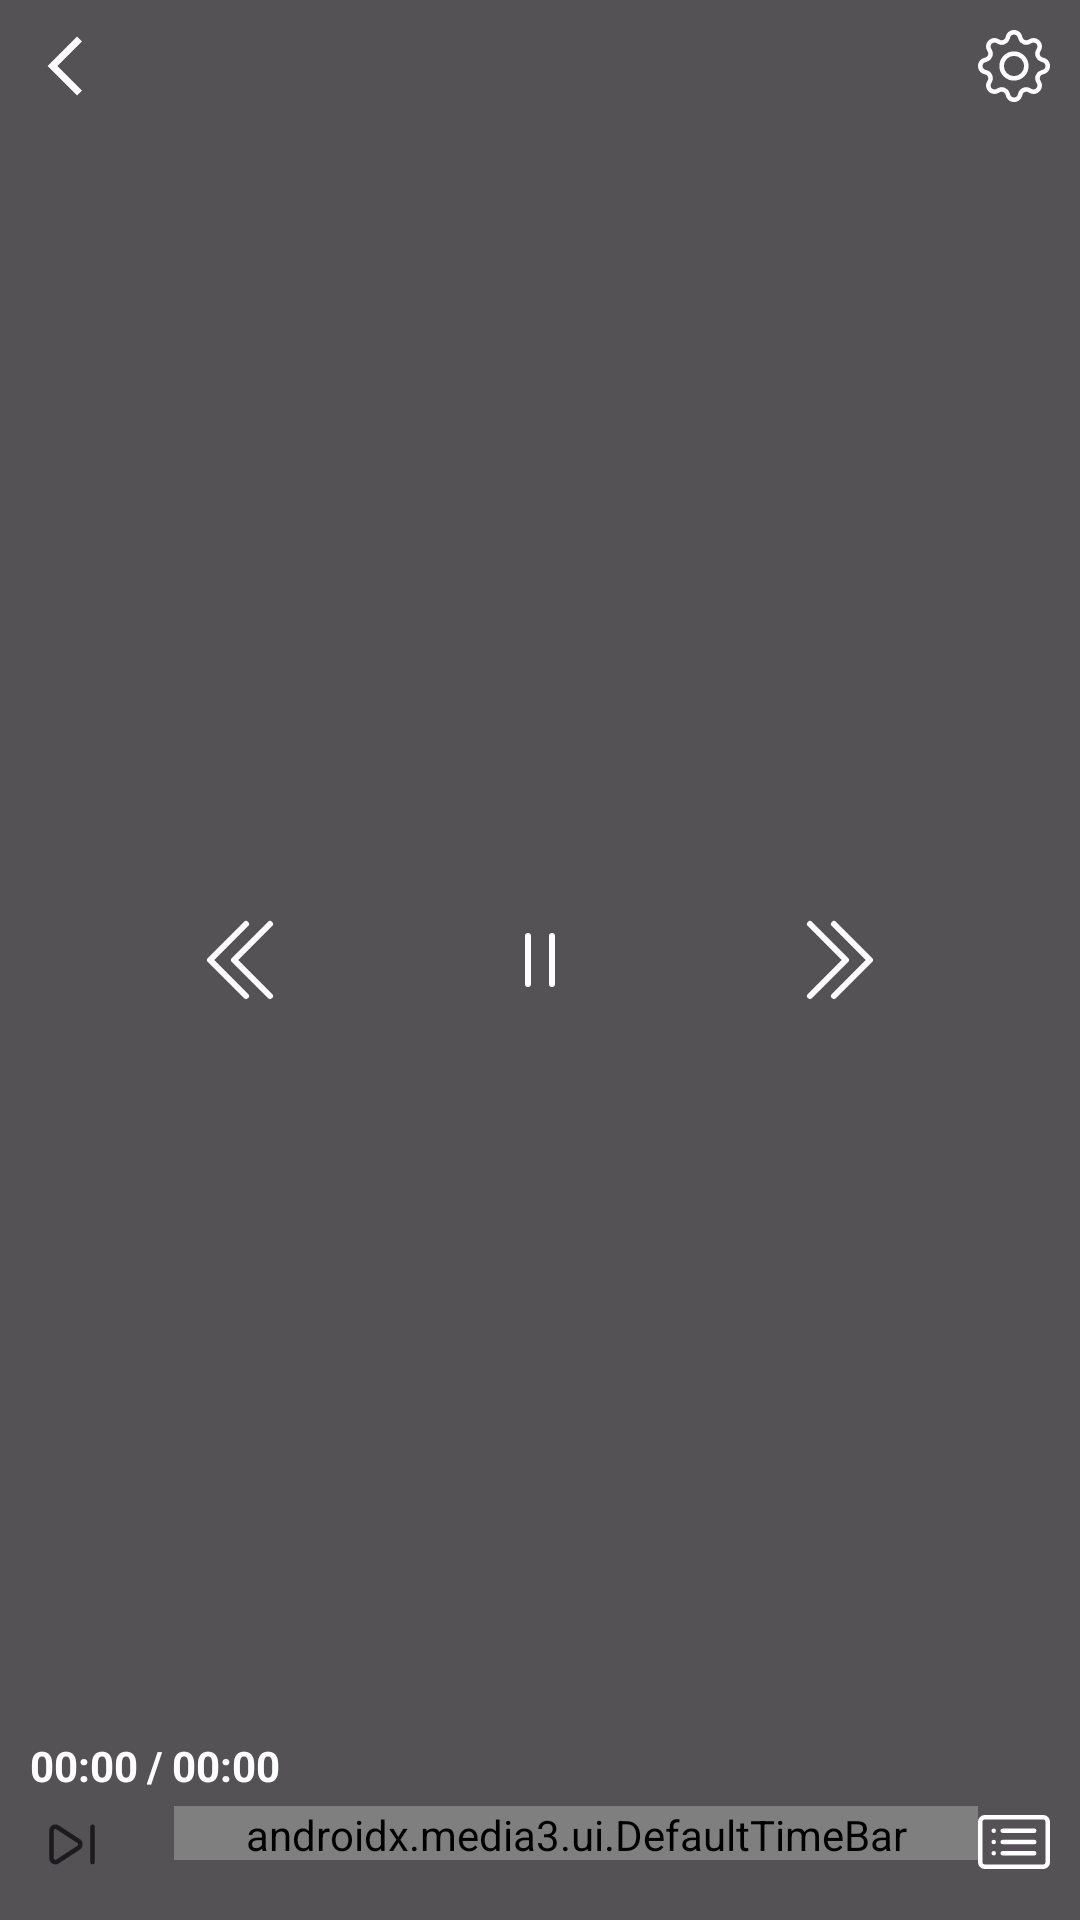

Icons on this 1080w x 1920h Android screen, each with its box as (x1, y1, x2, y2):
back: (48, 37, 82, 95)
card list: (978, 1815, 1050, 1869)
chevron double left: (207, 921, 273, 999)
chevron double right: (807, 921, 873, 999)
gear: (978, 30, 1050, 102)
next ep: (49, 1824, 95, 1865)
pause: (525, 933, 555, 987)
